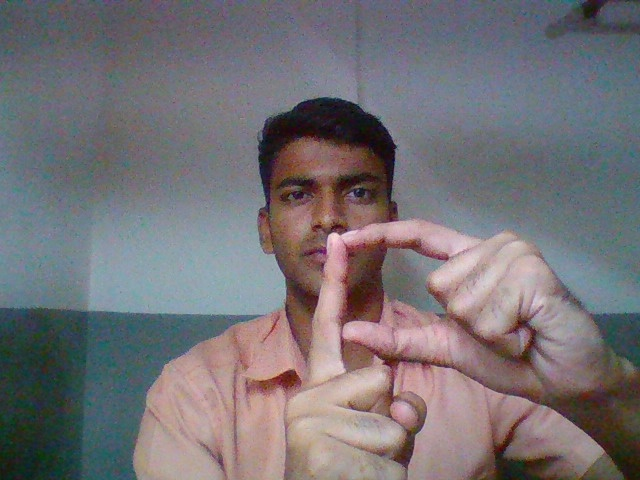P: (301, 222, 601, 463)
